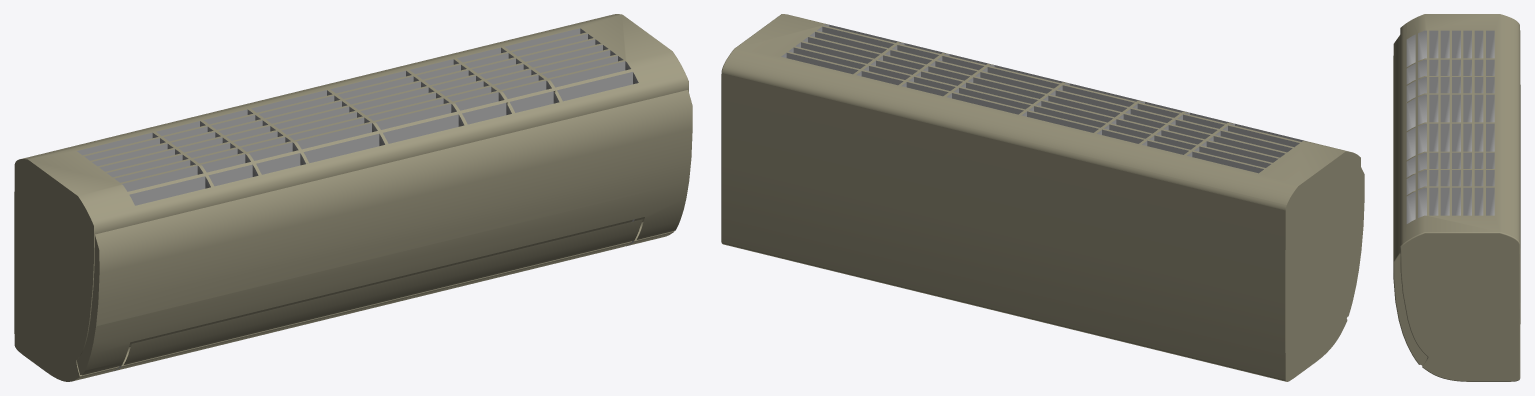
Rendered from AirCon.FBX.
3 renders of one model, left to right at view 1: azimuth 30°, elevation 25°; view 2: azimuth 150°, elevation 25°; view 3: azimuth 270°, elevation 25°, orthographic. The views are drawn at different scales.
Parts seen in each view (by area): view 1: Front_door, Main_body, Cube2, Cap_11, Extru, Extrude_NU, Cap_1; view 2: Main_body, Cube2, Cap_11, Cap_1; view 3: Cap_2, Main_body, Cube2, Front_door, Cap_22, Round1, Round2.
Part boxes in pixels (x1,y1,x2,y2): Front_door: (81, 90, 691, 374); Main_body: (22, 14, 688, 381); Cube2: (77, 28, 638, 205); Cap_11: (14, 159, 93, 381); Extru: (122, 219, 642, 365); Extrude_NU: (114, 220, 632, 371); Cap_1: (77, 235, 99, 375); Main_body: (722, 14, 1348, 381); Cube2: (781, 24, 1306, 173); Cap_11: (1285, 151, 1360, 381); Cap_1: (1344, 167, 1364, 317); Cap_2: (1401, 233, 1519, 381); Main_body: (1400, 14, 1520, 302); Cube2: (1406, 30, 1494, 223); Front_door: (1393, 35, 1400, 272); Cap_22: (1394, 254, 1427, 364); Round1: (1400, 232, 1520, 381); Round2: (1393, 252, 1422, 365).
Bounding box in the file's own units: 190 × 60.73 × 46.7.
